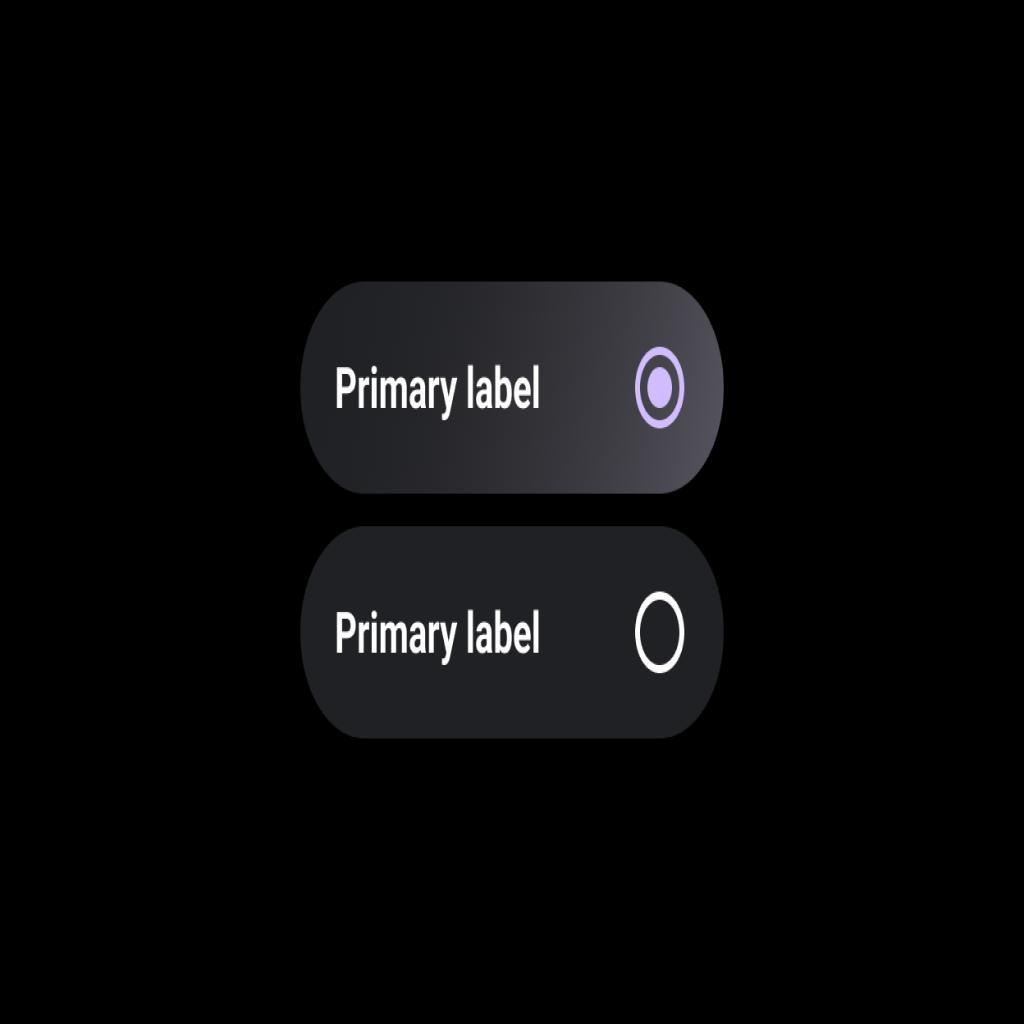label: (328, 601, 545, 664), (328, 362, 547, 418)
radio: (636, 346, 687, 431), (635, 592, 687, 675)
